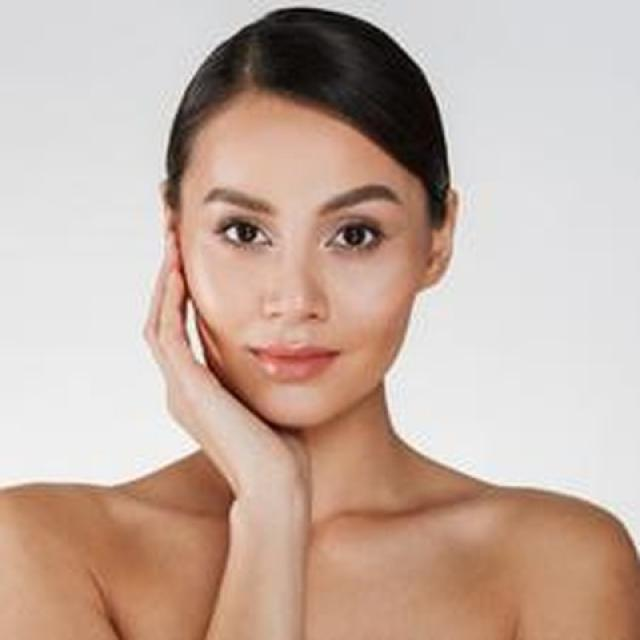Oily-Skin: (352, 305, 422, 358), (273, 137, 357, 181), (205, 272, 267, 314), (228, 149, 265, 194), (273, 388, 310, 432)
